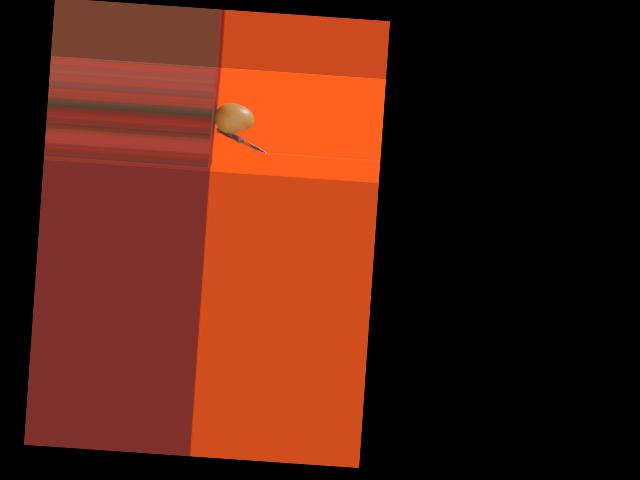egg: (214, 102, 254, 135)
